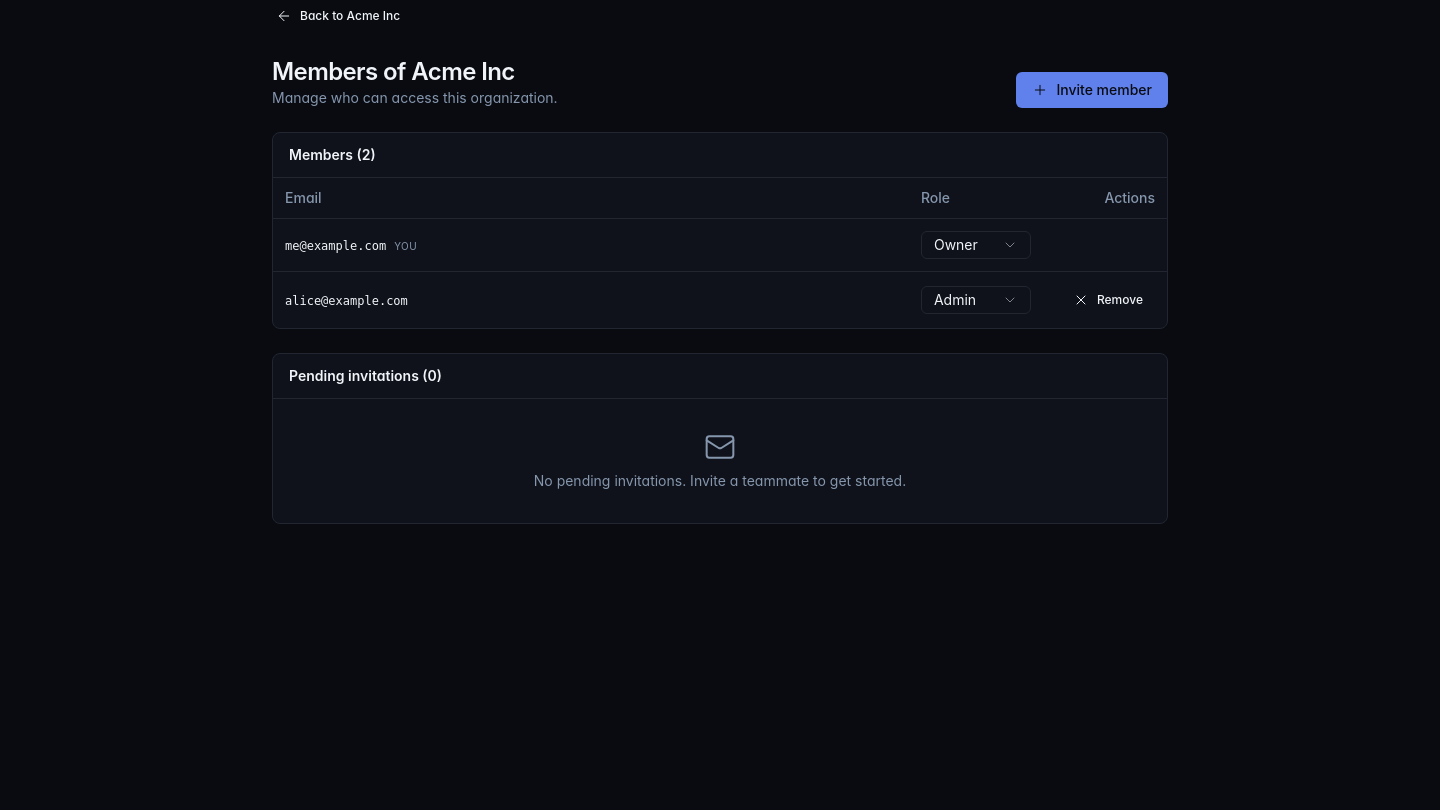
it: OrgMembersPage › "Invite member" opens the invite dialog with email + role fields
Click the button "Invite member": (1092, 90) 1016,72 -> 1168,108
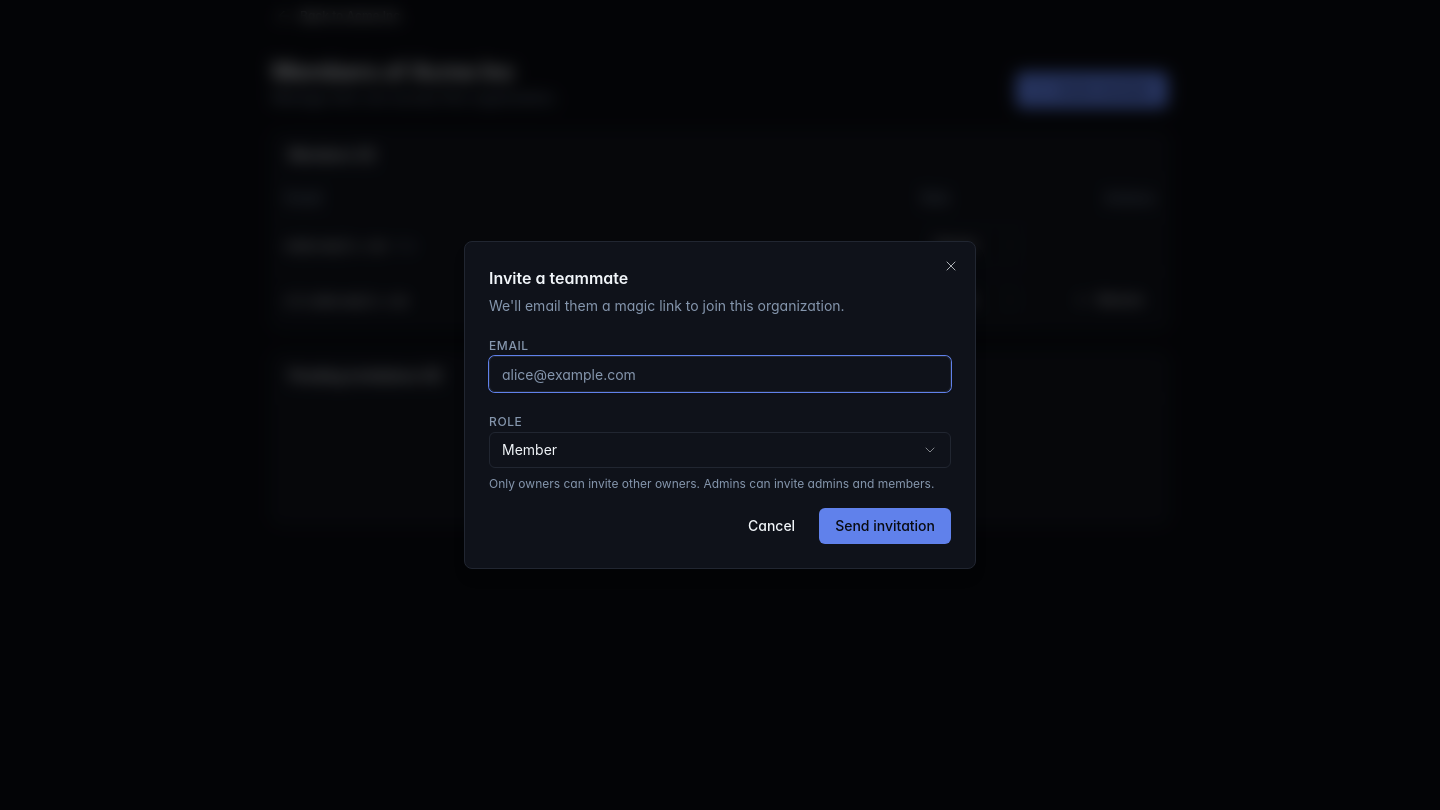
Check: the heading "Invite a teammate" is shown, box 489,268 -> 628,288
Check: the field labelled "Email" is shown, box 489,356 -> 951,392
